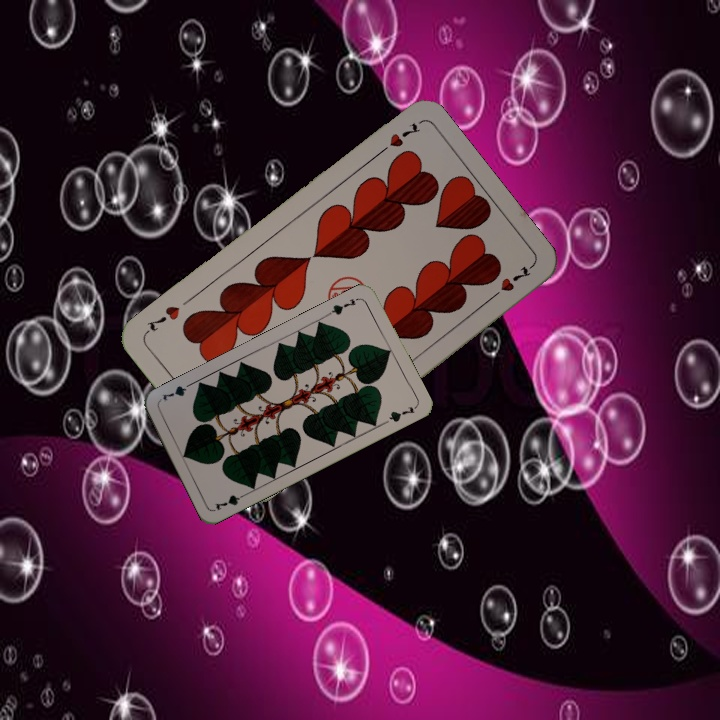G7: (211, 489, 250, 513), (324, 294, 362, 318)
H7: (372, 119, 423, 159)
